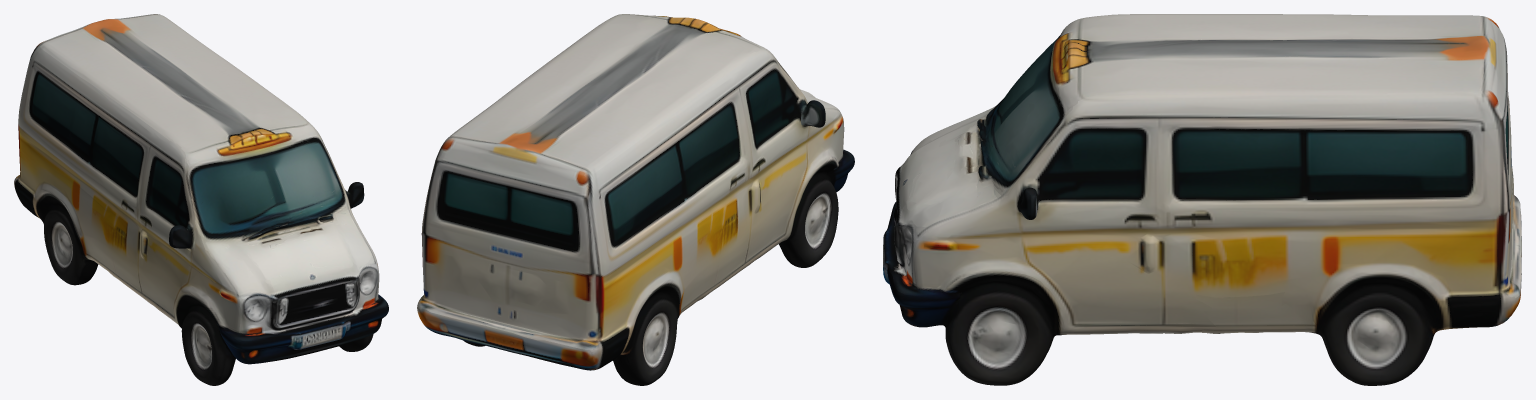
Rendered from taxi-final.glb.
The picture shows the model from 3 angles, left to right: view 1: azimuth 30°, elevation 25°; view 2: azimuth 150°, elevation 25°; view 3: azimuth 270°, elevation 25°; orthographic projection. The views are drawn at different scales.
Visible parts, largest first — view 1: textured.obj; view 2: textured.obj; view 3: textured.obj.
Part boxes in pixels (x1=…): textured.obj: x1=14, y1=14, x2=388, y2=385; textured.obj: x1=417, y1=14, x2=854, y2=385; textured.obj: x1=883, y1=14, x2=1521, y2=385.
Size of the model in its own units: 0.9531 by 1.01 by 1.99.
1 material, 1 textured.
